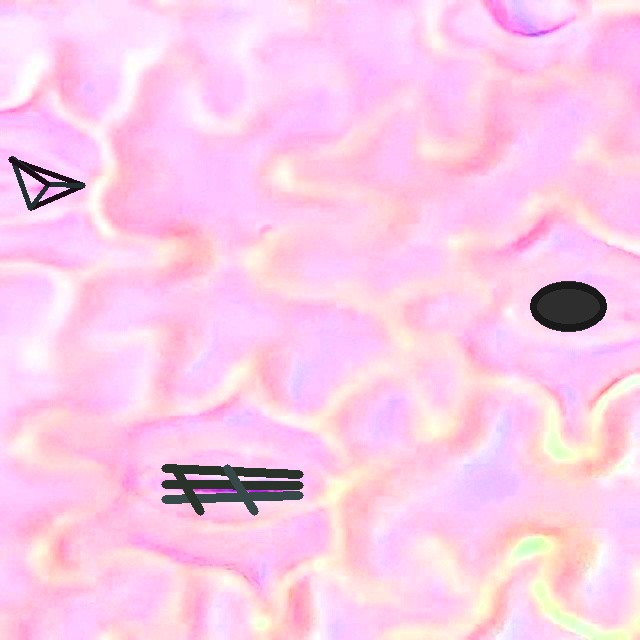close: (10, 157, 85, 210)
open: (161, 464, 303, 515), (530, 281, 605, 330)
